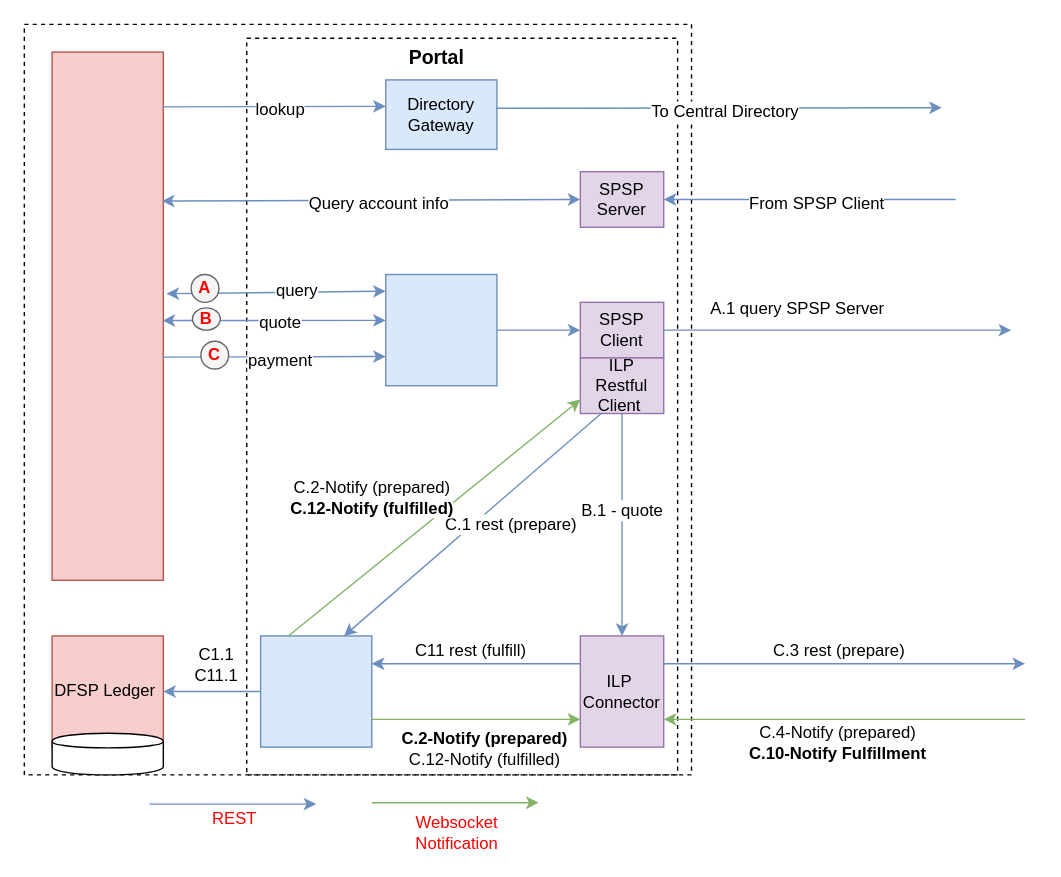
This 1061x877 diagram has some shape labels left out. The box of each missing label's shape, as (x1, y1, x2, y2) in pixels:
DFSP1 Logic: (51, 51, 163, 580)
ILP Ledger Adapter: (259, 635, 372, 747)
Ledger DB: (51, 732, 163, 775)
SPSP Client Proxy: (384, 273, 497, 386)
